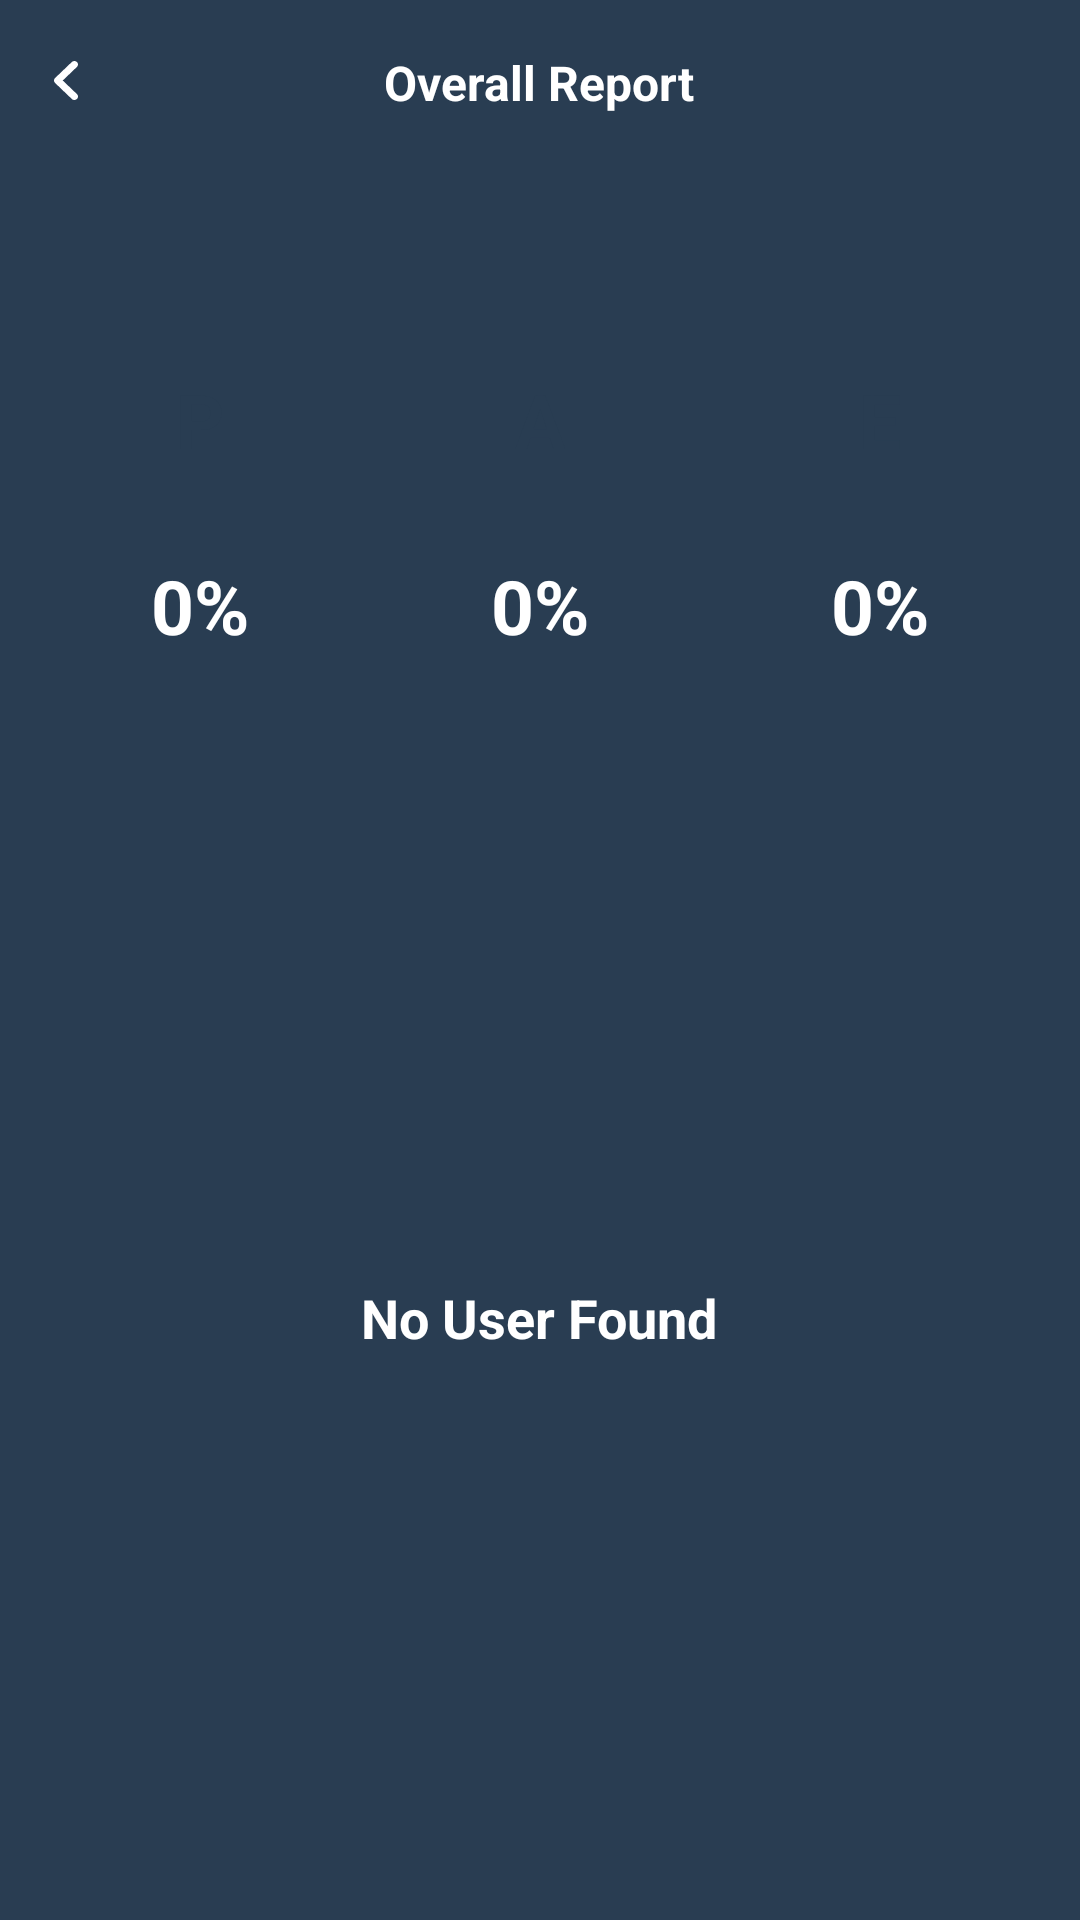

Screen size 1080 × 1920. Icon name, then its center in pixels as (x=x, y=y):
back: (x=66, y=80)
